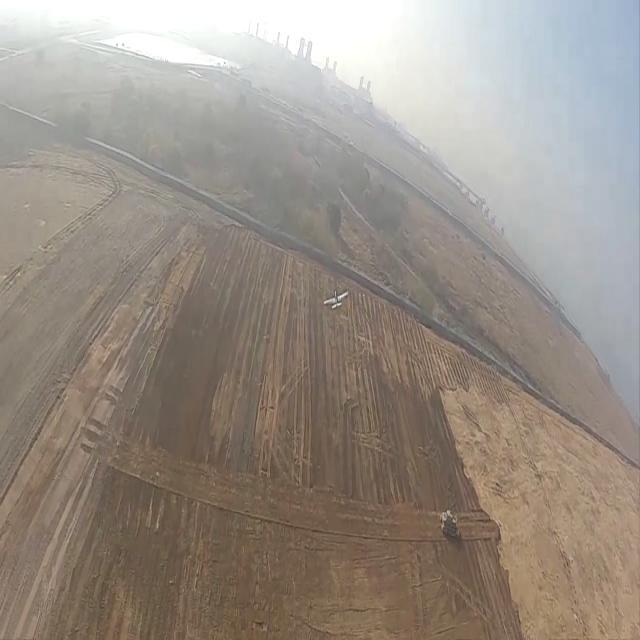iha: (317, 285, 355, 313)
